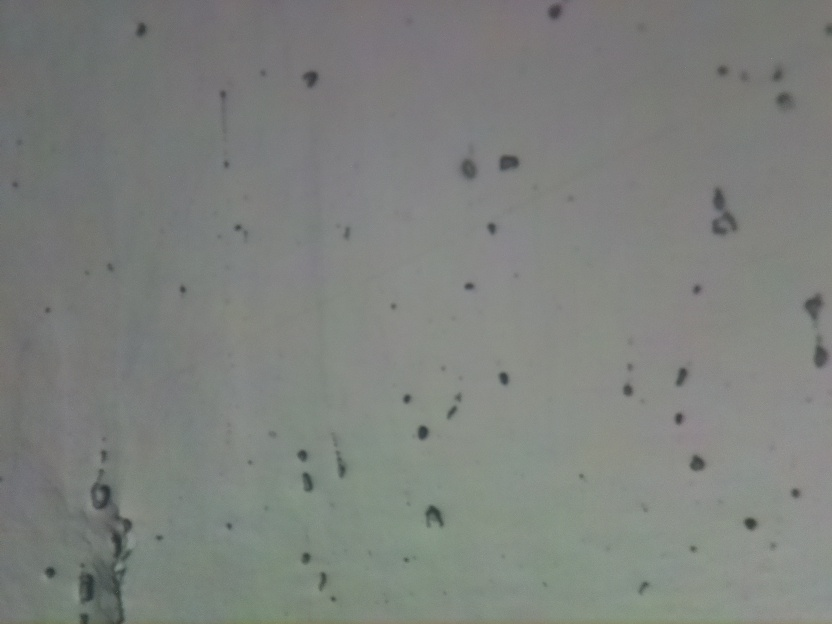crack: (106, 515, 141, 624)
